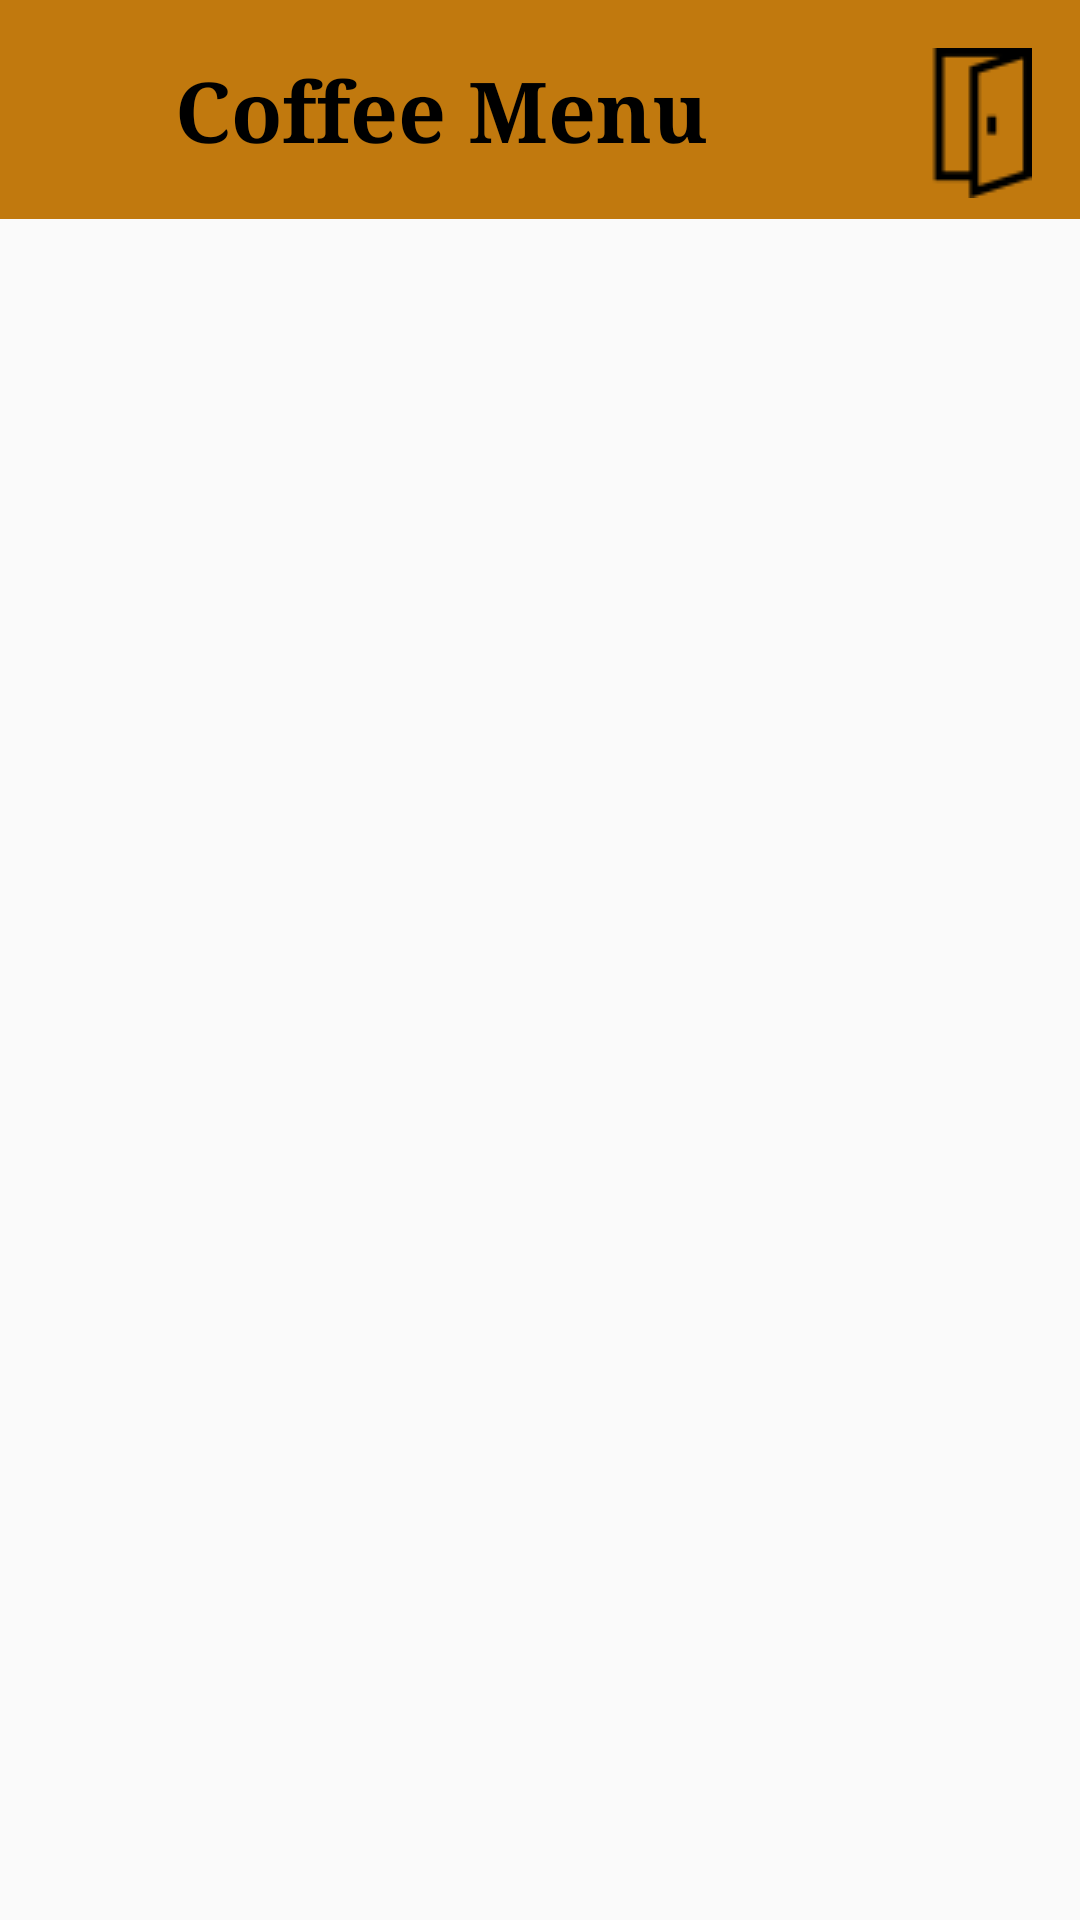

Where icons sit on this 1080w x 1920h app screen, as {"left": x1, "top": y1, "right": x2, "bottom": y2}:
Log out: {"left": 932, "top": 48, "right": 1032, "bottom": 198}
